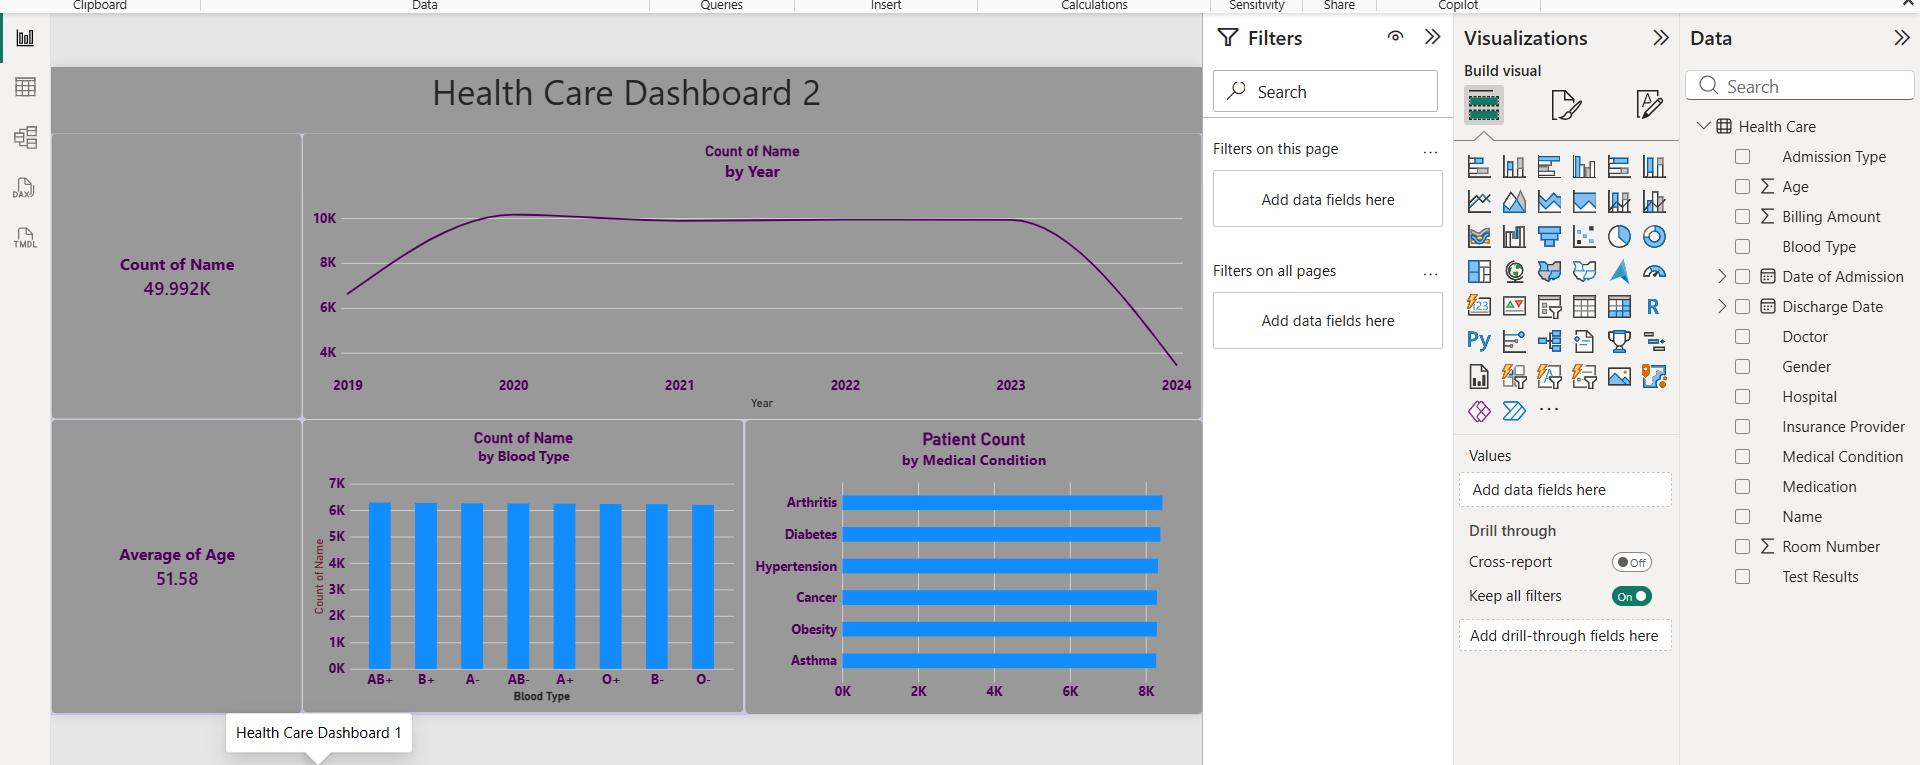

This screenshot's page, from the dashboard's own definition file:
{"tool":"powerbi","page":{"name":"Health Care Dashboard 2","canvas":[1920,1080],"ordinal":1},"visuals":[{"type":"lineChart","fields":{"Category":["Health Care.Date of Admission.Variation.Date Hierarchy.Year","Health Care.Date of Admission.Variation.Date Hierarchy.Quarter","Health Care.Date of Admission.Variation.Date Hierarchy.Month","Health Care.Date of Admission.Variation.Date Hierarchy.Day"],"Y":["CountNonNull(Health Care.Name)"]},"box":[419.9,111.1,1500.5,477.5],"z":0},{"type":"clusteredBarChart","title":"Patient Count","fields":{"Category":["Health Care.Medical Condition"],"Y":["CountNonNull(Health Care.Name)"]},"box":[1156.8,588.7,763.6,491.9],"z":1000},{"type":"cardVisual","fields":{"Data":["CountNonNull(Health Care.Name)"]},"box":[0,111.1,419.9,477.5],"z":2000},{"type":"cardVisual","fields":{"Data":["Avg(Health Care.Age)"]},"box":[0,588.7,419.9,491.9],"z":3000},{"type":"clusteredColumnChart","fields":{"Category":["Health Care.Blood Type"],"Y":["CountNonNull(Health Care.Name)"]},"box":[419.9,588.7,736.9,489.9],"z":4000},{"type":"textbox","box":[119.4,80.3,300.5,12.3],"z":5000},{"type":"textbox","box":[0,0,1920.4,111.1],"z":6000}]}

Visuals, with their boxes on the page's 1920x1080 design canvas (x1, y1, x2, y2). These are canvas units, not pixel positions in the 1920x765 screenshot, which may show the page scaled, cropped or inside an application window:
lineChart - Health Care.Date of Admission.Variation.Date Hierarchy.Year x Health Care.Date of Admission.Variation.Date Hierarchy.Quarter: l=420, t=111, r=1920, b=589
"Patient Count" clusteredBarChart: l=1157, t=589, r=1920, b=1081
cardVisual - CountNonNull(Health Care.Name): l=0, t=111, r=420, b=589
cardVisual - Avg(Health Care.Age): l=0, t=589, r=420, b=1081
clusteredColumnChart - Health Care.Blood Type x CountNonNull(Health Care.Name): l=420, t=589, r=1157, b=1079
textbox: l=119, t=80, r=420, b=93
textbox: l=0, t=0, r=1920, b=111
